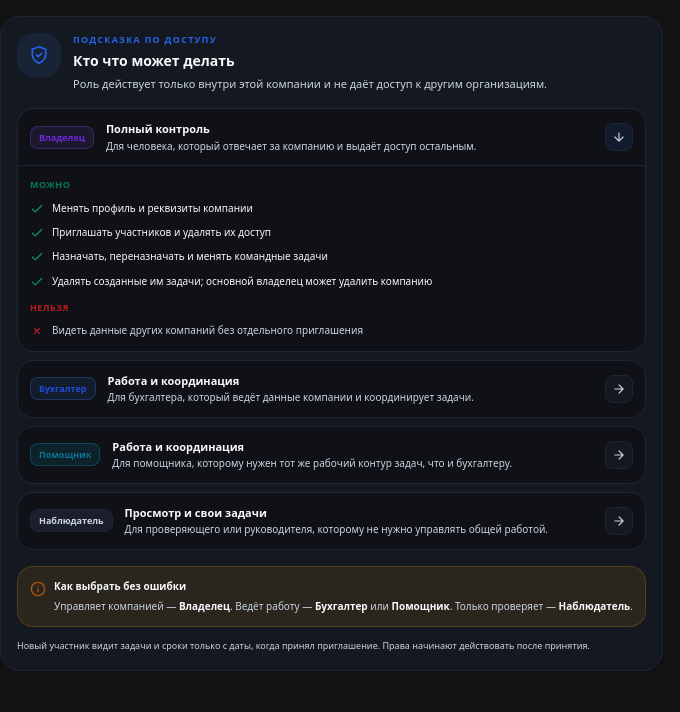
Test: CompanyRoleGuide › opens role details and shows concrete restrictions
The image size is (680, 712).
Click the button "Наблюдатель" at (332, 521), box [18,493,645,549]
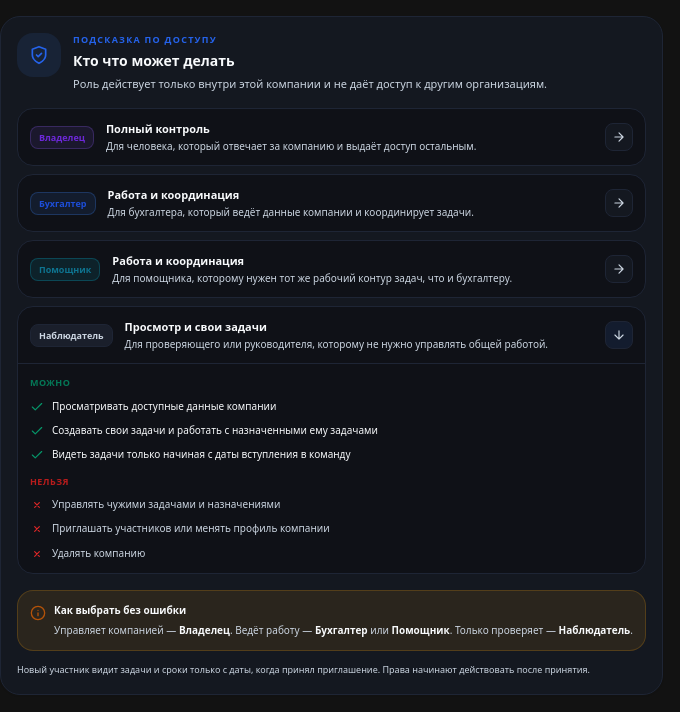
Now the button "Наблюдатель" is expanded, box [18,307,645,363]
Now the text "Управлять чужими задачами и назначениями" is shown, box [52,496,280,512]
Now the text "Создавать свои задачи и работать с назначенными ему задачами" is shown, box [52,422,378,438]
